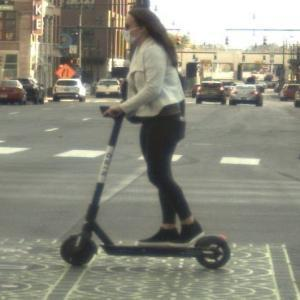with scooter: (60, 6, 230, 268)
